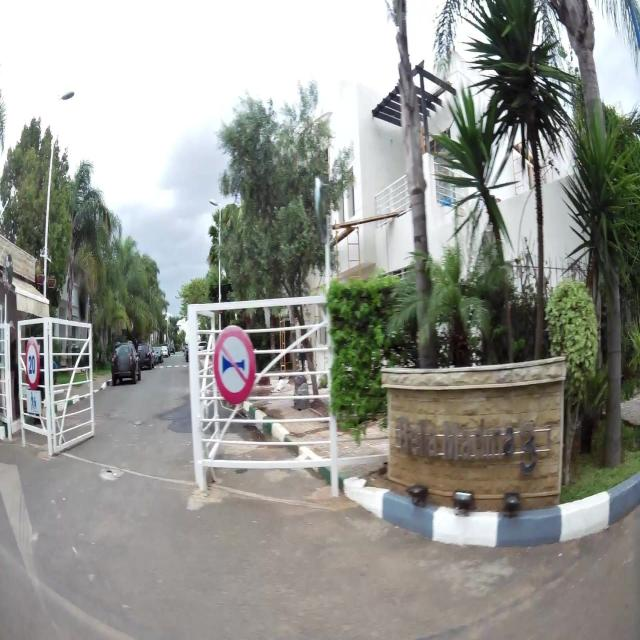car: (111, 341, 141, 385), (136, 342, 154, 369), (152, 344, 164, 363), (161, 342, 169, 358)
